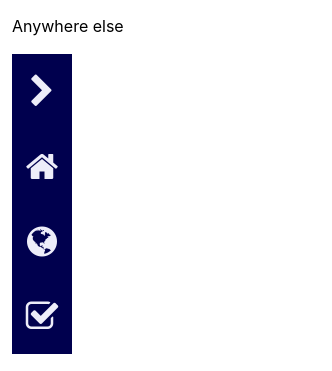
Scenario: Navbar › Opens when toggle button is clicked and closes when anywhere else in the screen is clicked than the navbar
Click the button named "toggle for navigation bar".
click(42, 92)  # box [30,74,54,109]
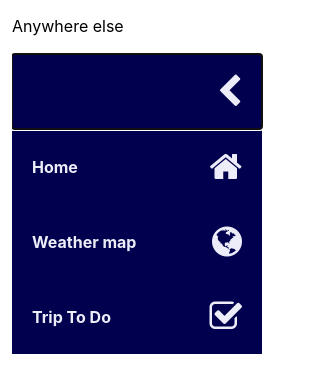
expect the element with test id "expanded-navbar" is shown: met
Click the text "Anywhere else".
click(68, 26)  # box [12,16,124,36]
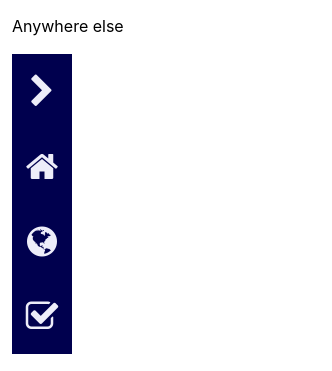
expect the element with test id "closed-navbar" is shown: met, box [12,54,72,354]
